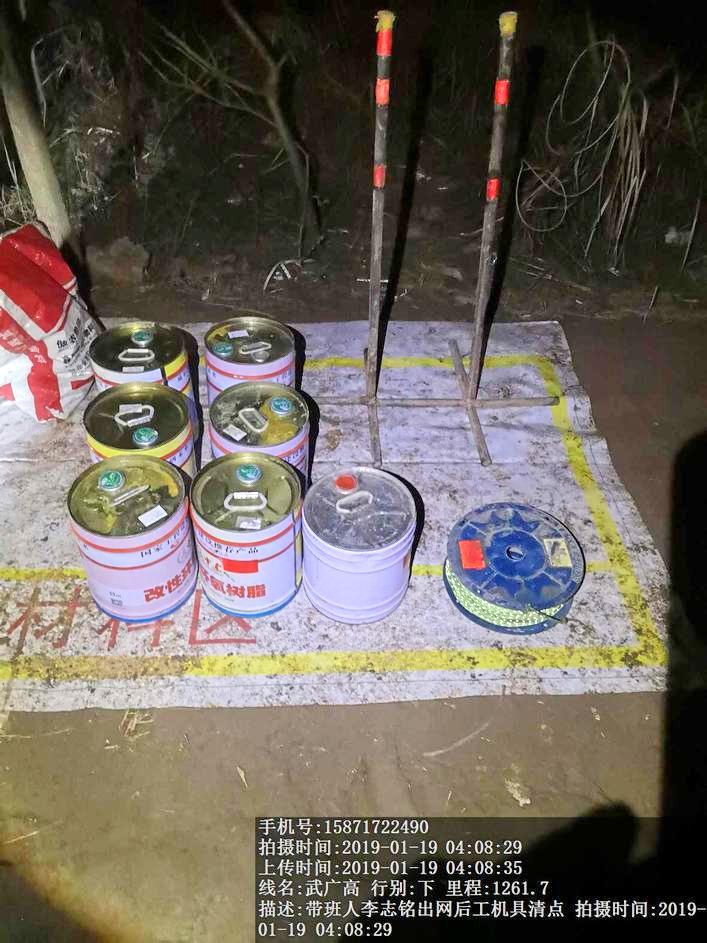BZD: (1, 219, 96, 419)
